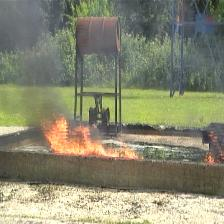fire: (43, 113, 144, 158)
